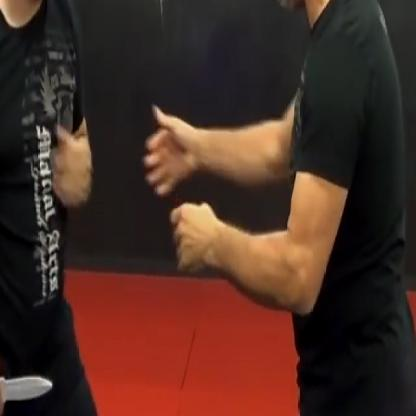knife: (0, 363, 59, 415)
